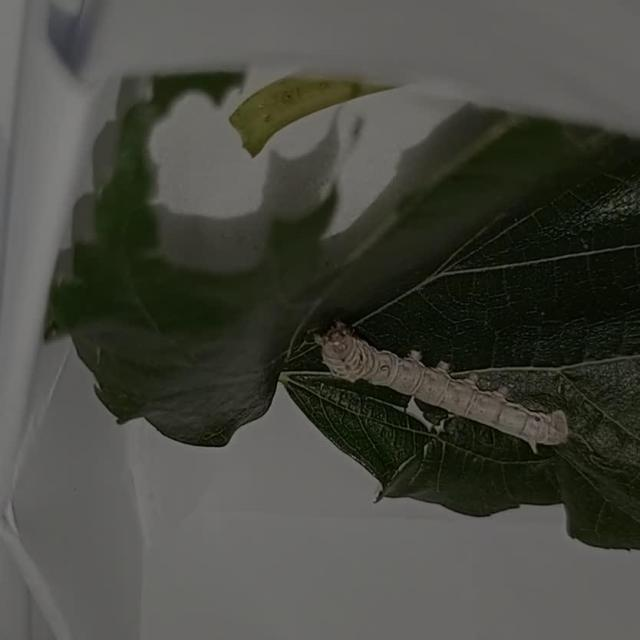Healthy: (308, 308, 582, 472)
